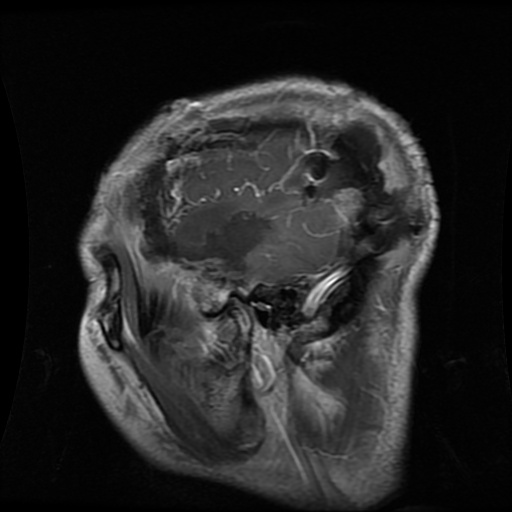glioma: (305, 124, 407, 253)
